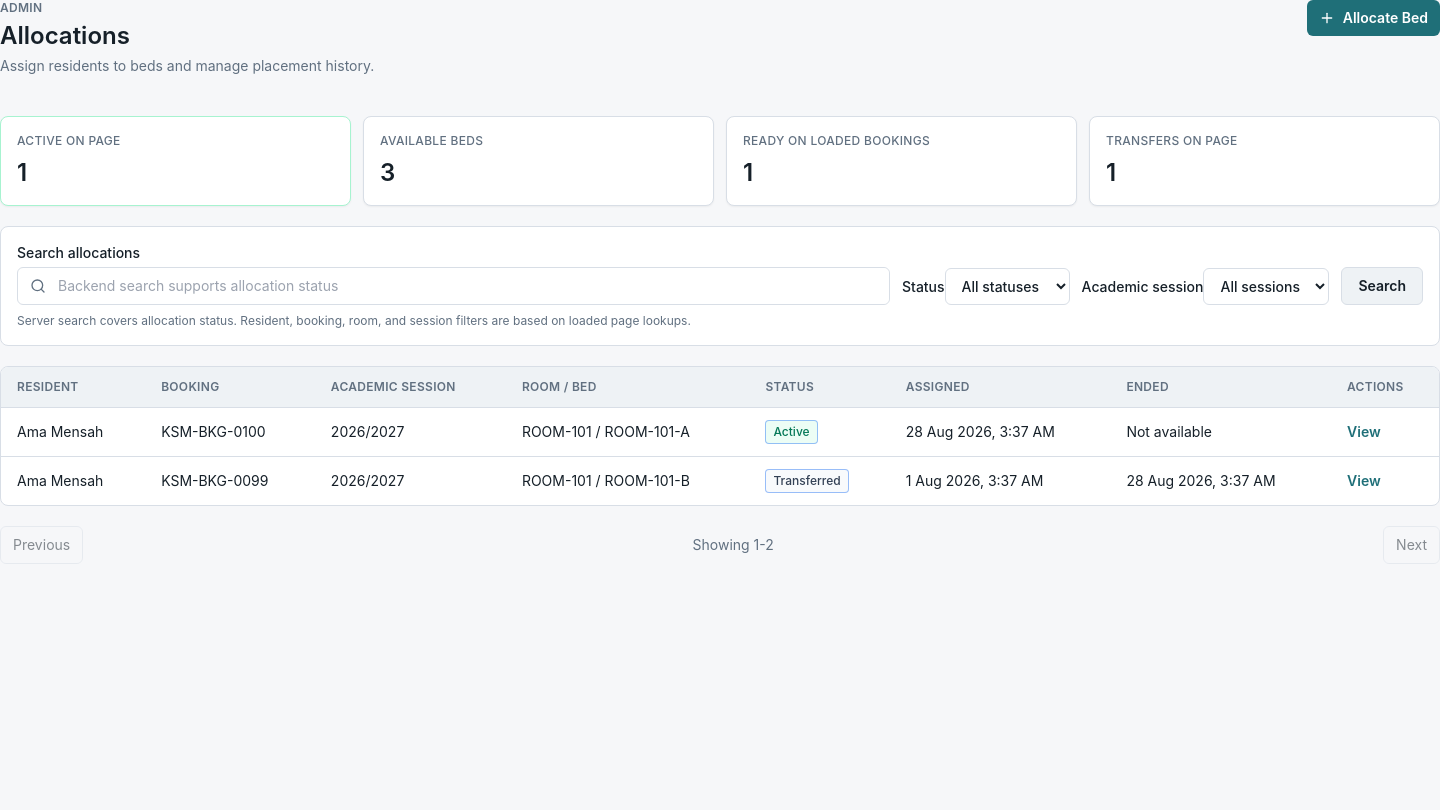
AllocationsPage › surfaces differently priced transfer rejection from backend
Expected: the text "KSM-BKG-0100" is shown, top-left (145, 408), bottom-right (315, 456)
Click the button "View" in the row of "KSM-BKG-0100" at (1364, 432), box top-left (1347, 422), bottom-right (1381, 442)
(page scrolled)
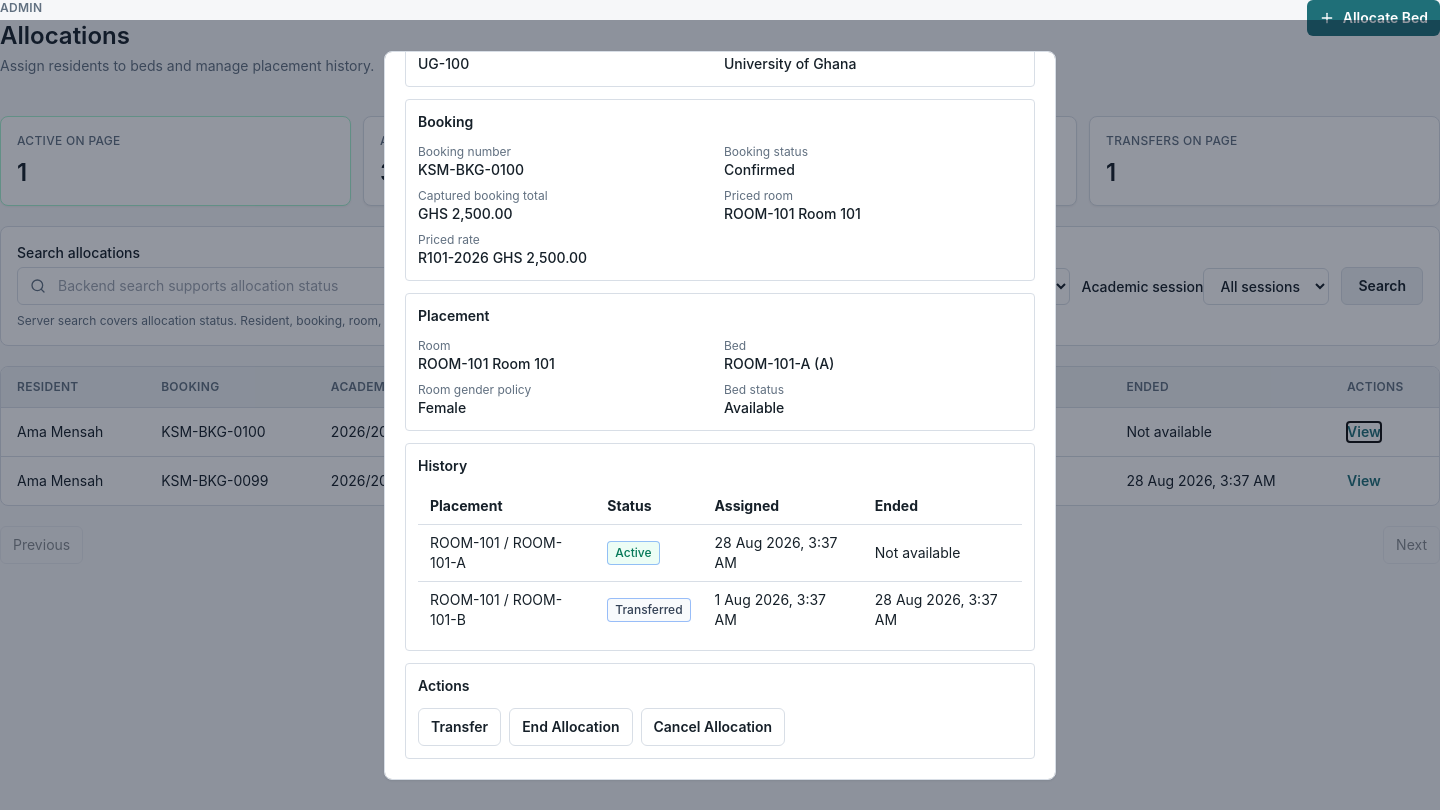
Click the button "Transfer" at (460, 726), box top-left (418, 708), bottom-right (501, 746)
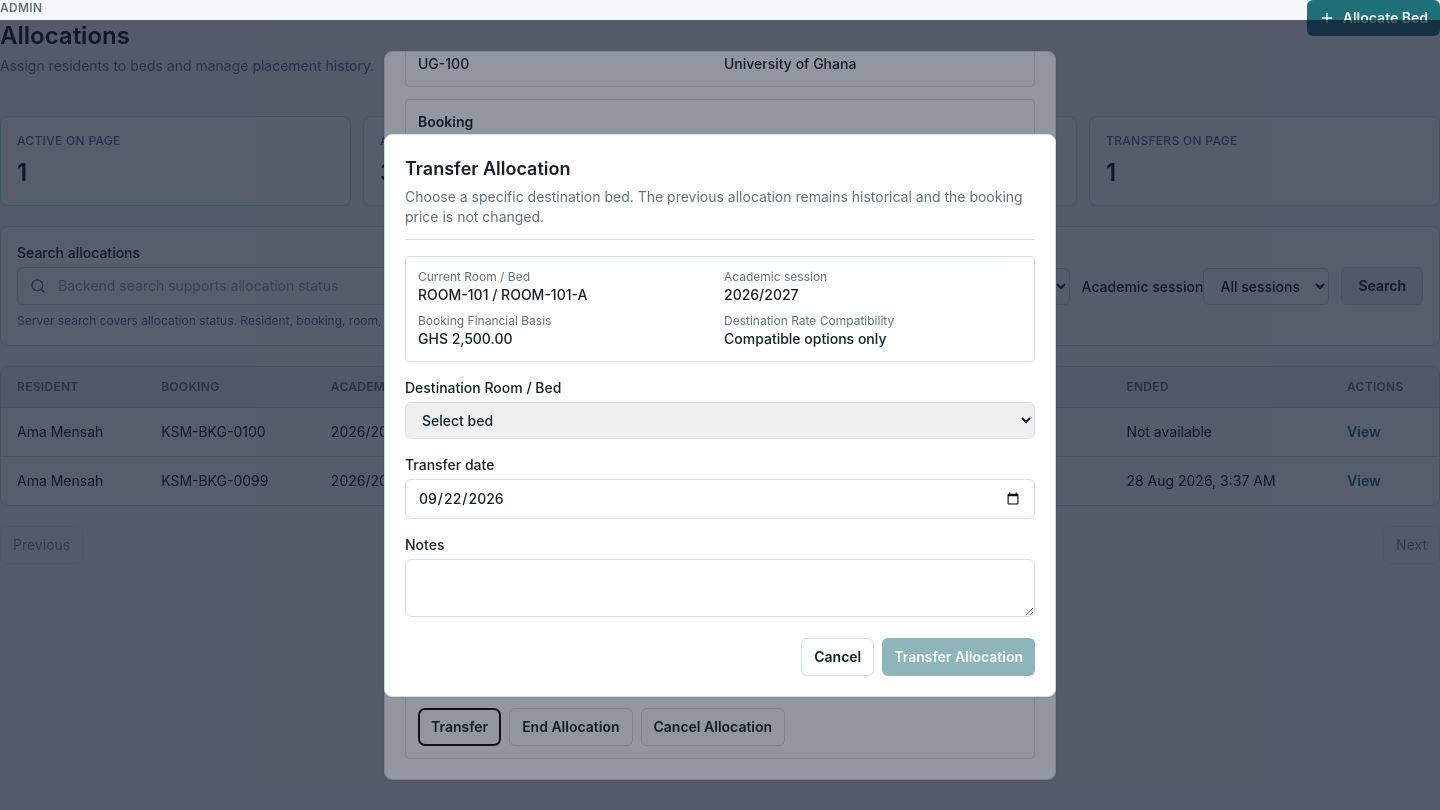
Select "ROOM-201 / ROOM-201-A - GHS 2,500.00" in the dropdown named "Transfer destination bed" at (720, 420), box top-left (405, 402), bottom-right (1035, 438)
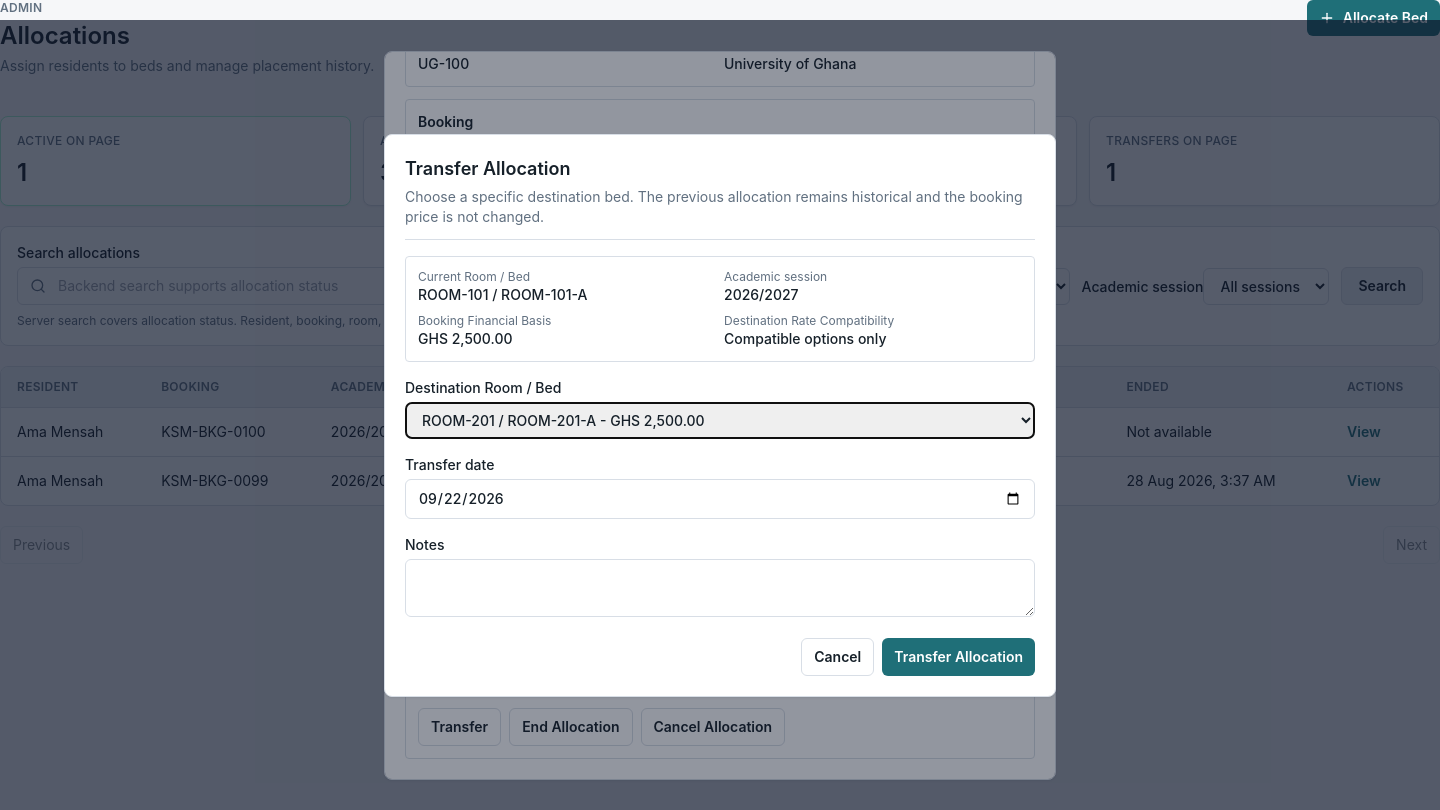
Click the button "Transfer Allocation" at (959, 656), box top-left (882, 638), bottom-right (1035, 676)
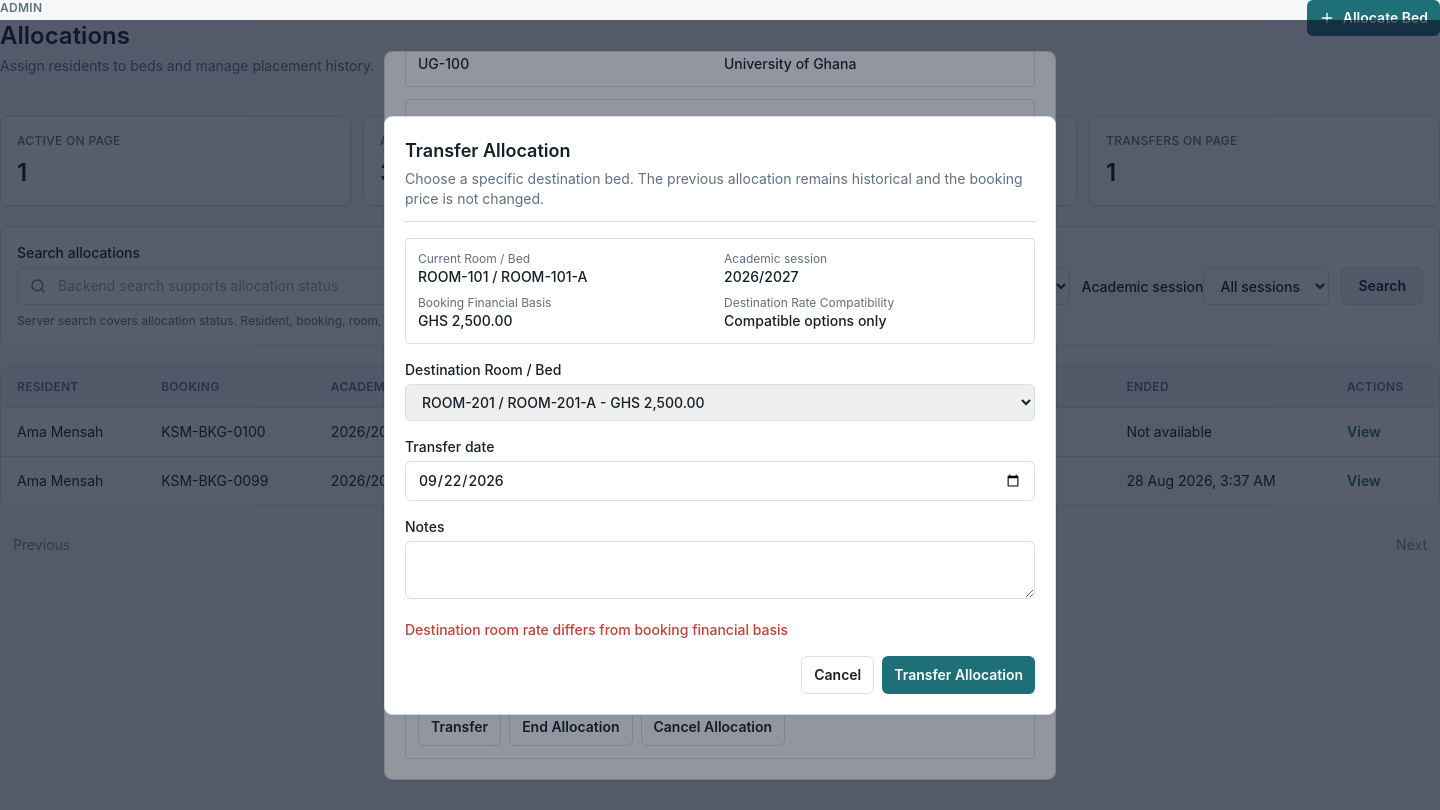
Expected: the message shows "Destination room rate differs", top-left (405, 620), bottom-right (788, 638)
